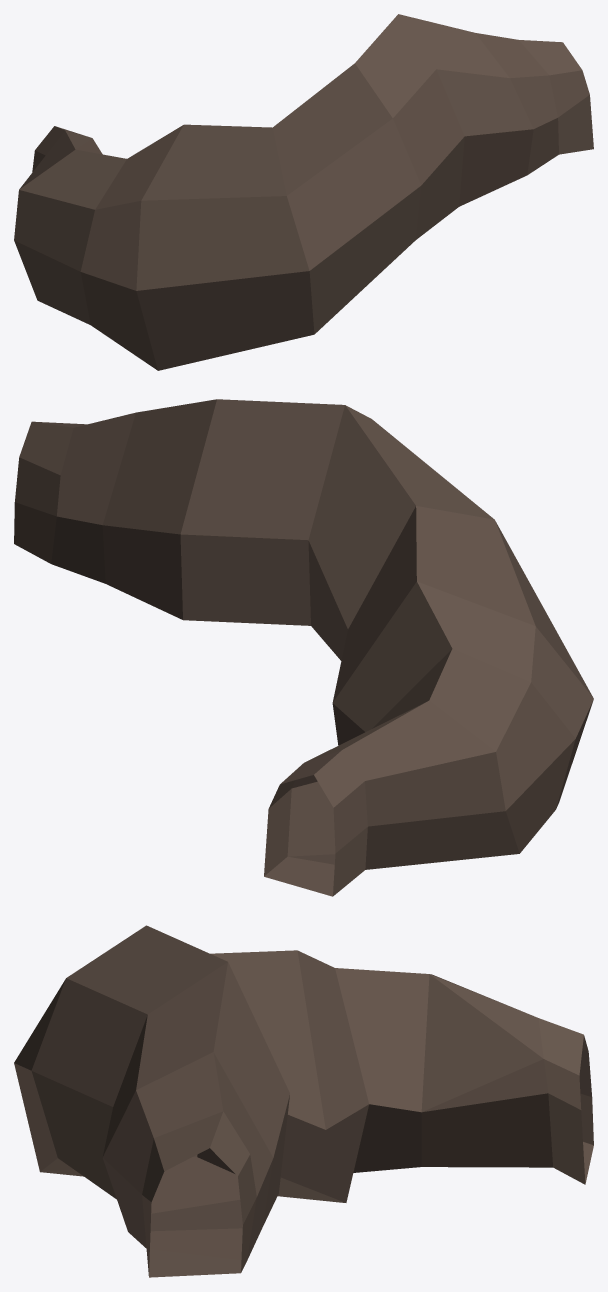
Rendered from Tunnel-B05.fbx.
3 views of the same model, one above another, from view 1: azimuth 30°, elevation 25°; view 2: azimuth 150°, elevation 25°; view 3: azimuth 270°, elevation 25° (orthographic). The views are drawn at different scales.
Parts seen in each view (by area): view 1: Tunnel-B05; view 2: Tunnel-B05; view 3: Tunnel-B05.
Boxes of the visible parts, left/top/right/bottom form: Tunnel-B05: left=14, top=14, right=593, bottom=370; Tunnel-B05: left=14, top=399, right=593, bottom=896; Tunnel-B05: left=14, top=925, right=593, bottom=1277.
Size of the model in its own units: 1061 by 1350 by 758.
